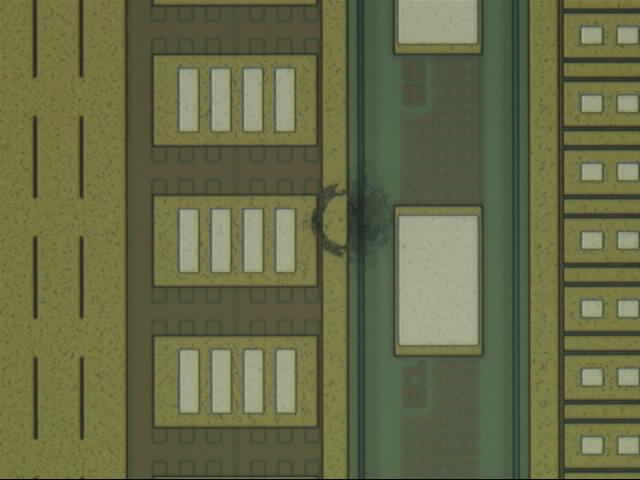PO CONTAMINATION: (304, 170, 400, 266)
